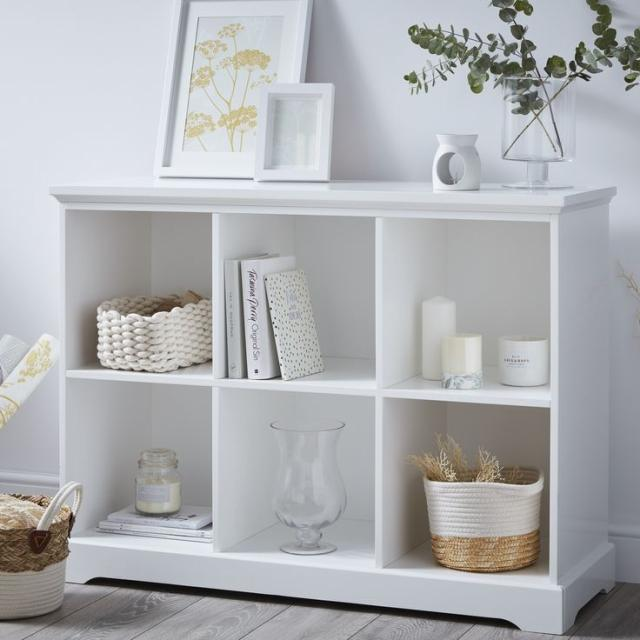Shelf: (45, 172, 632, 637)
